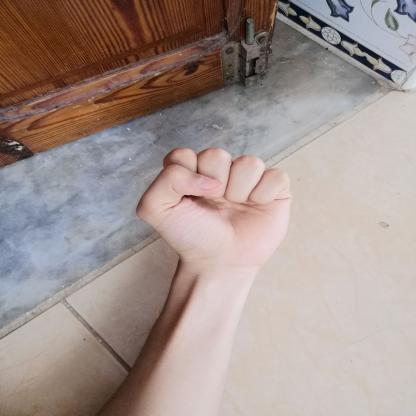SAD: (122, 138, 328, 282)
